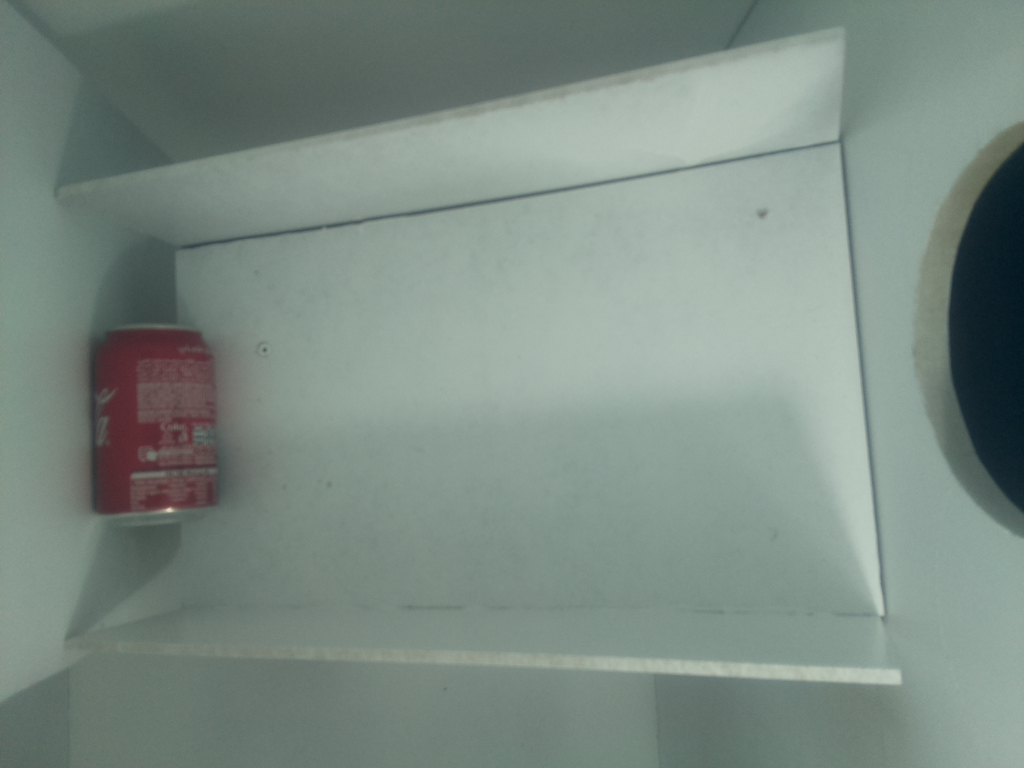kaleng: (91, 323, 218, 523)
